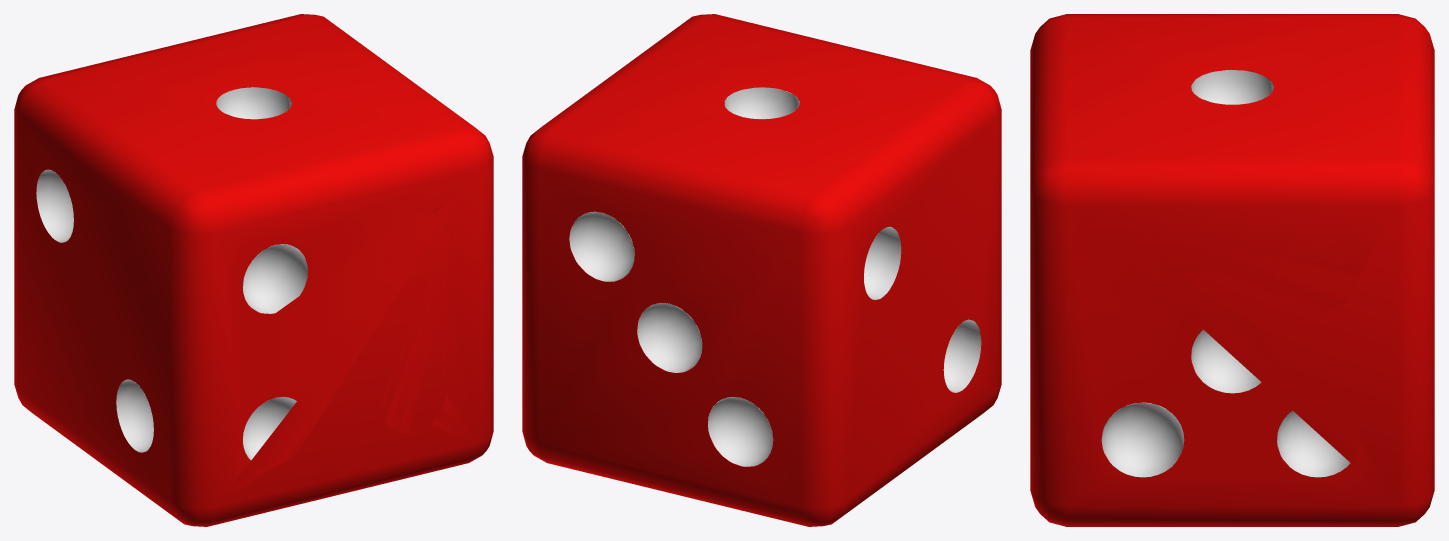
The model's file is dice.fbx.
The picture shows the model from 3 angles, left to right: view 1: azimuth 30°, elevation 25°; view 2: azimuth 150°, elevation 25°; view 3: azimuth 270°, elevation 25°; orthographic projection. The views are drawn at different scales.
Visible parts, largest first — view 1: Cube.001; view 2: Cube.001; view 3: Cube.001.
Boxes of the visible parts, x1,y1,x2,y2 form: Cube.001: (14,14,493,526); Cube.001: (522,14,1001,526); Cube.001: (1030,14,1434,526).
Size of the model in its own units: 200 by 200 by 200.
